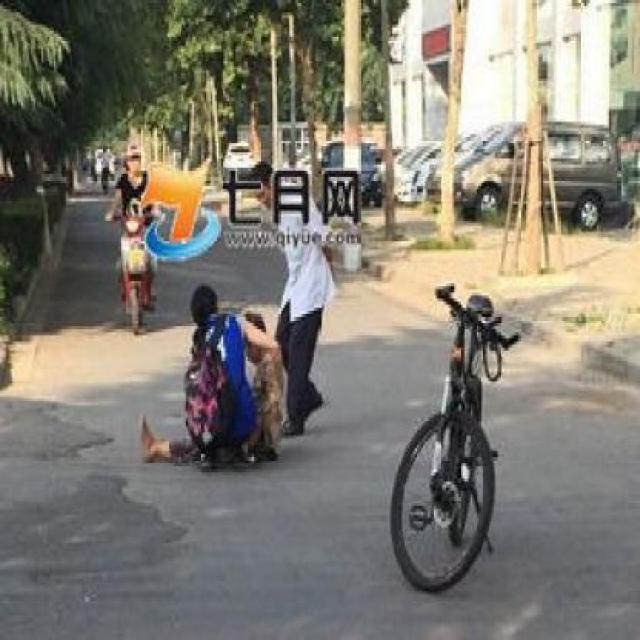fall: (134, 277, 289, 472)
